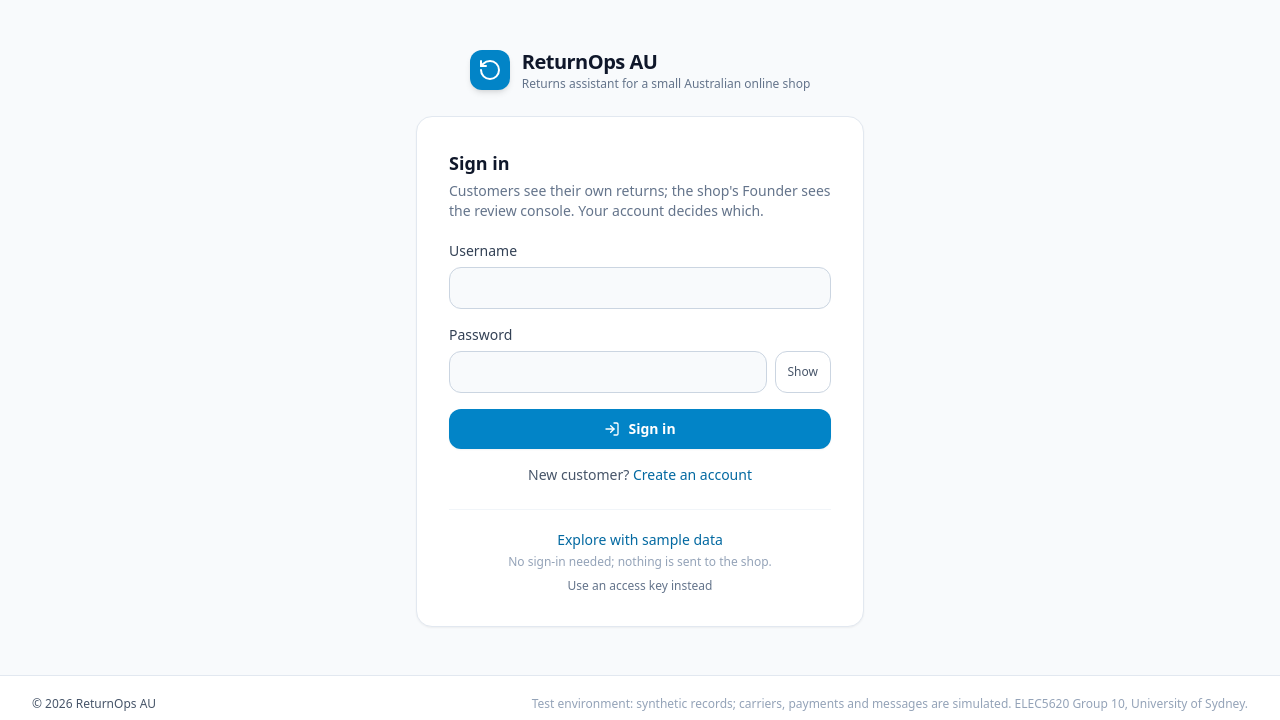
Test: SignInPage › shows the server's sentence for a wrong password and names a server without password sign-in
This screenshot has width=1280, height=720.
Type "founder_live" into the field labelled "Username".
click(640, 288); type("founder_live")  # box [449, 267, 831, 309]
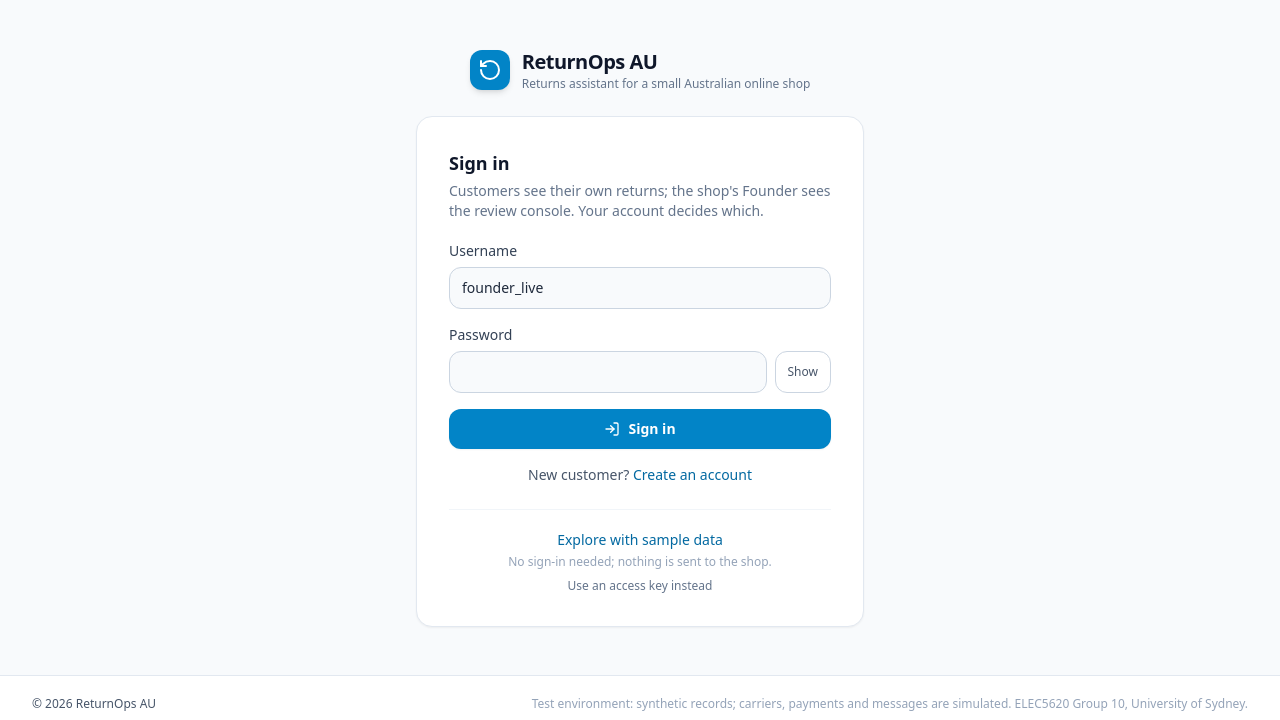
Type "wrong-password" into the password field labelled "Password".
click(608, 372); type("wrong-password")  # box [449, 351, 766, 393]
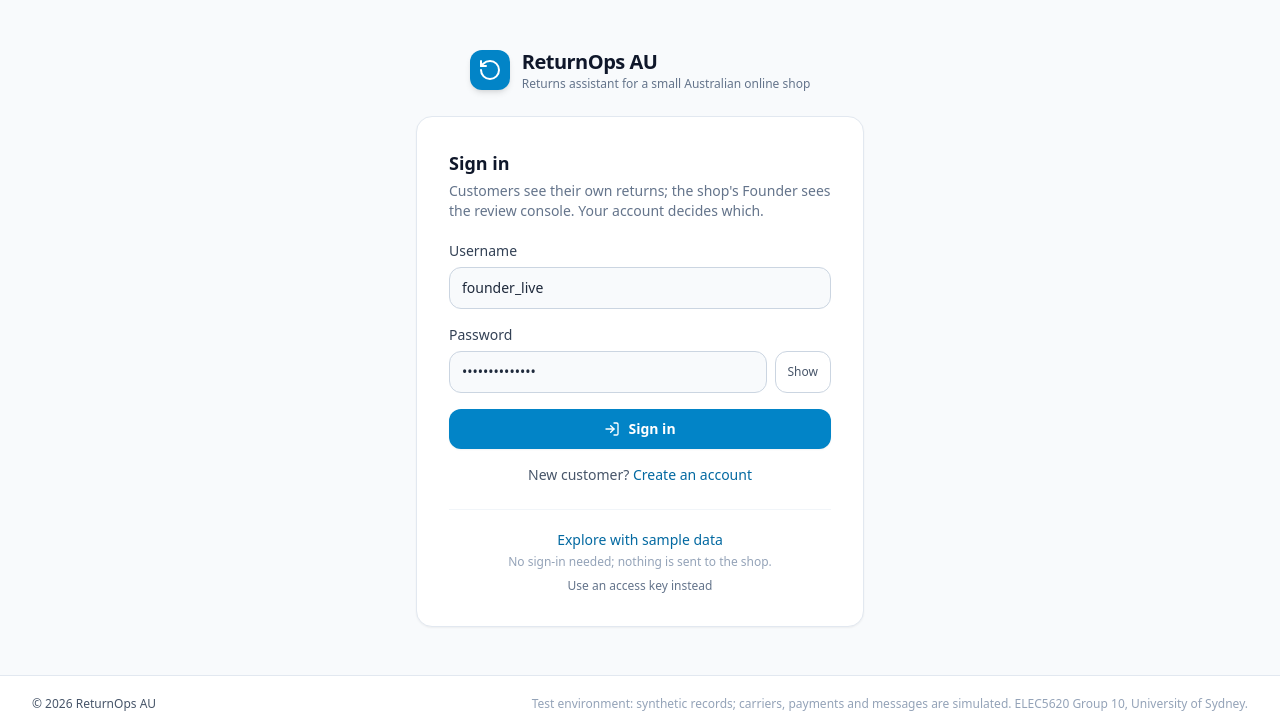
Click the button "Sign in".
click(640, 429)  # box [449, 409, 831, 449]
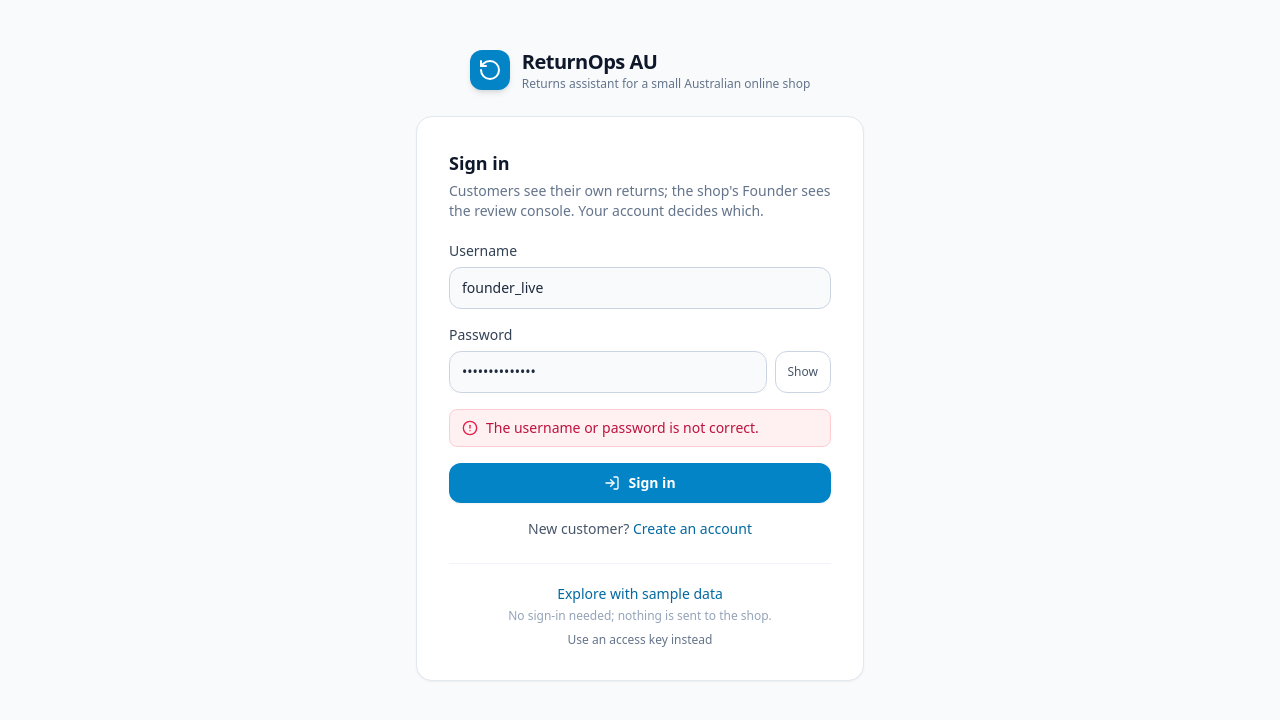
Result: the message reads "The username or password is not correct." at [486, 418, 759, 437]
Click the button "Sign in".
click(640, 483)  # box [449, 463, 831, 503]
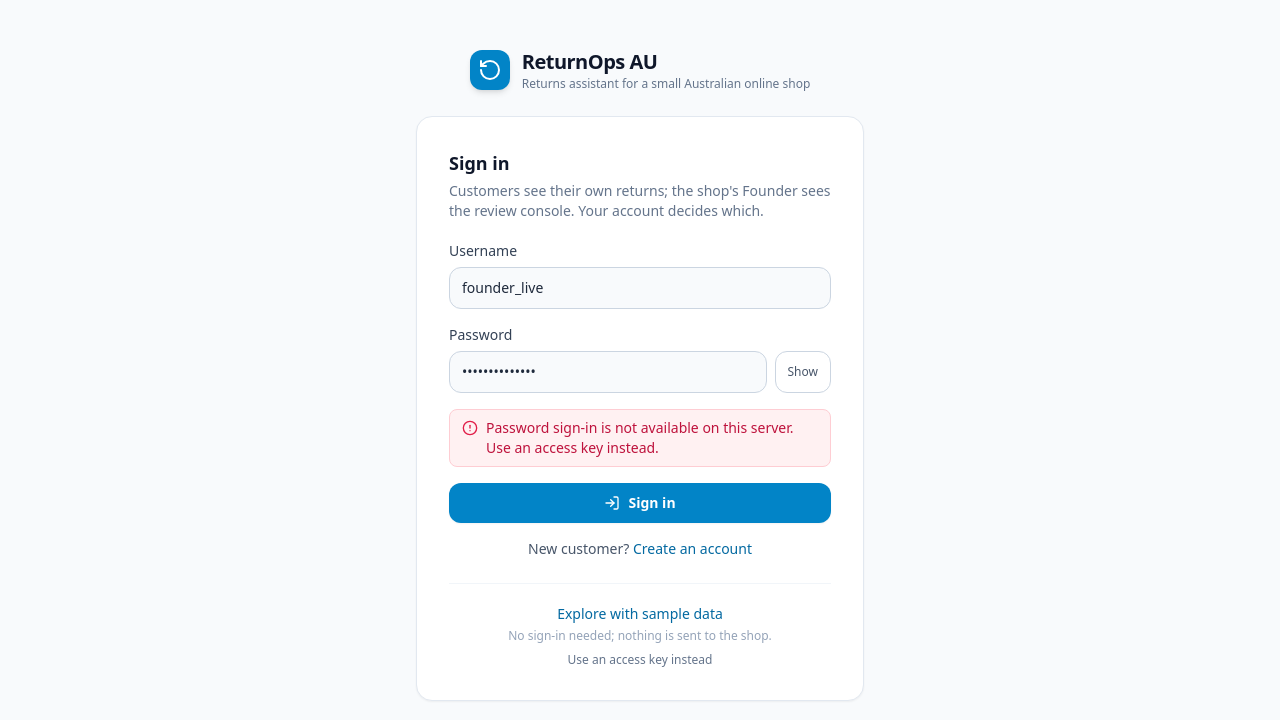
Result: the text "Password sign-in is not available on this server. Use an access key instead." is shown at [486, 418, 818, 458]
Click the button "Sign in".
click(640, 503)  # box [449, 483, 831, 523]
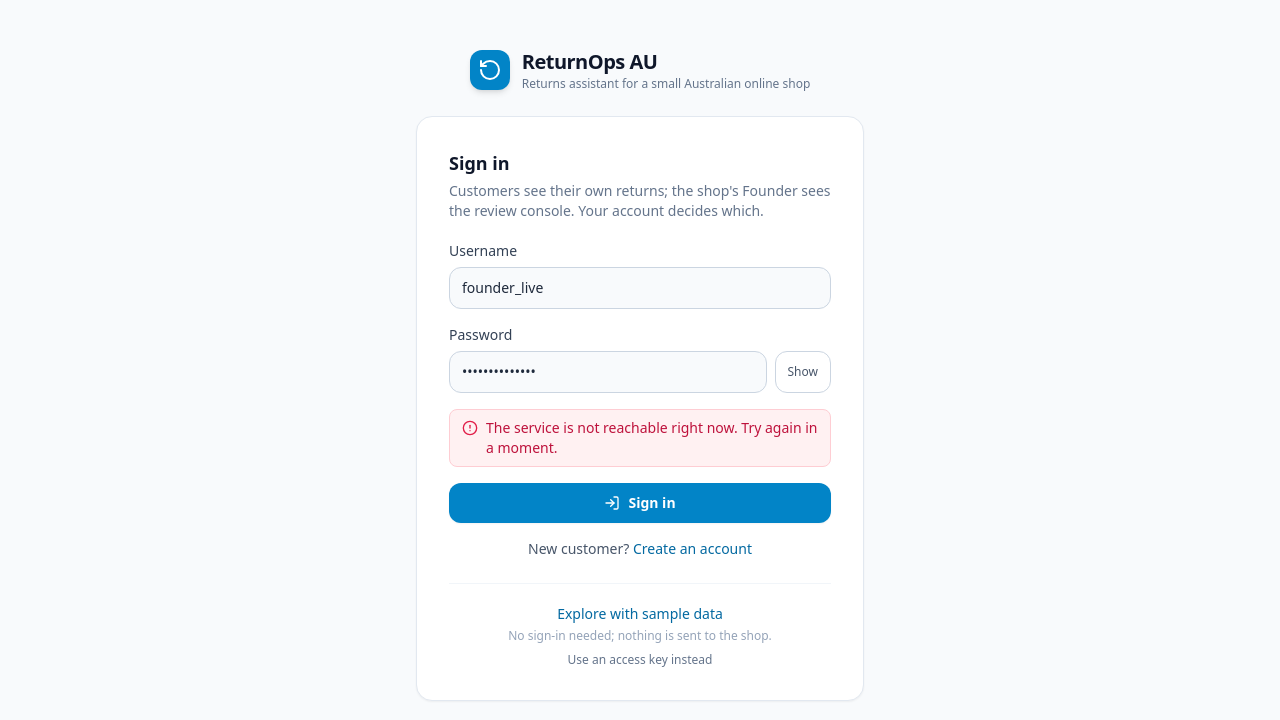
Result: the text "The service is not reachable right now. Try again in a moment." is shown at [486, 418, 818, 458]
